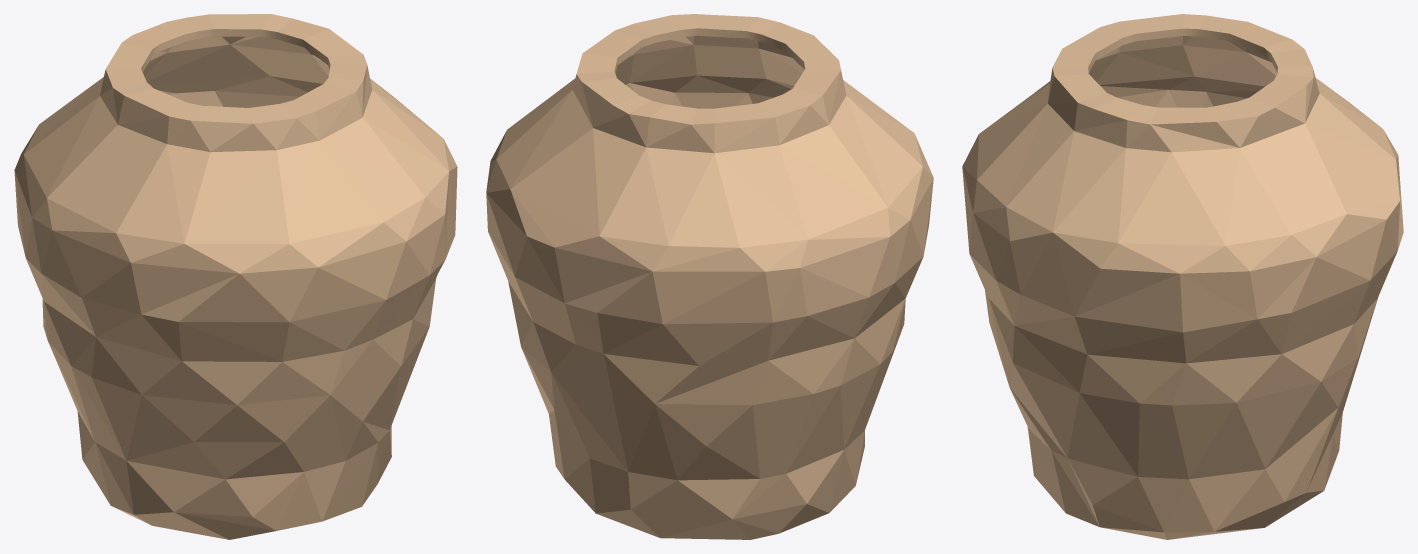
Rendered from Vase.fbx.
3 renders of one model, left to right at view 1: azimuth 30°, elevation 25°; view 2: azimuth 150°, elevation 25°; view 3: azimuth 270°, elevation 25°, orthographic.
Parts seen in each view (by area): view 1: vase; view 2: vase; view 3: vase.
Part boxes in pixels (bbox=[...]): vase: bbox=[14, 14, 457, 539]; vase: bbox=[486, 14, 933, 539]; vase: bbox=[962, 14, 1403, 539].
Bounding box in the file's own units: 10.9 × 11.46 × 10.81.
